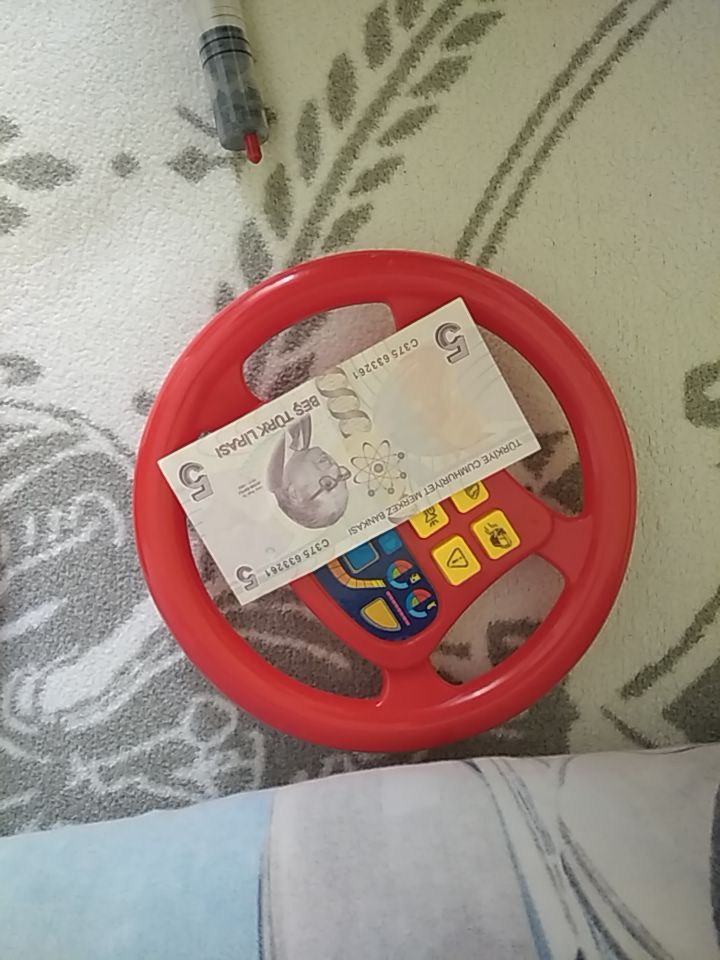5TL: (155, 295, 541, 608)
